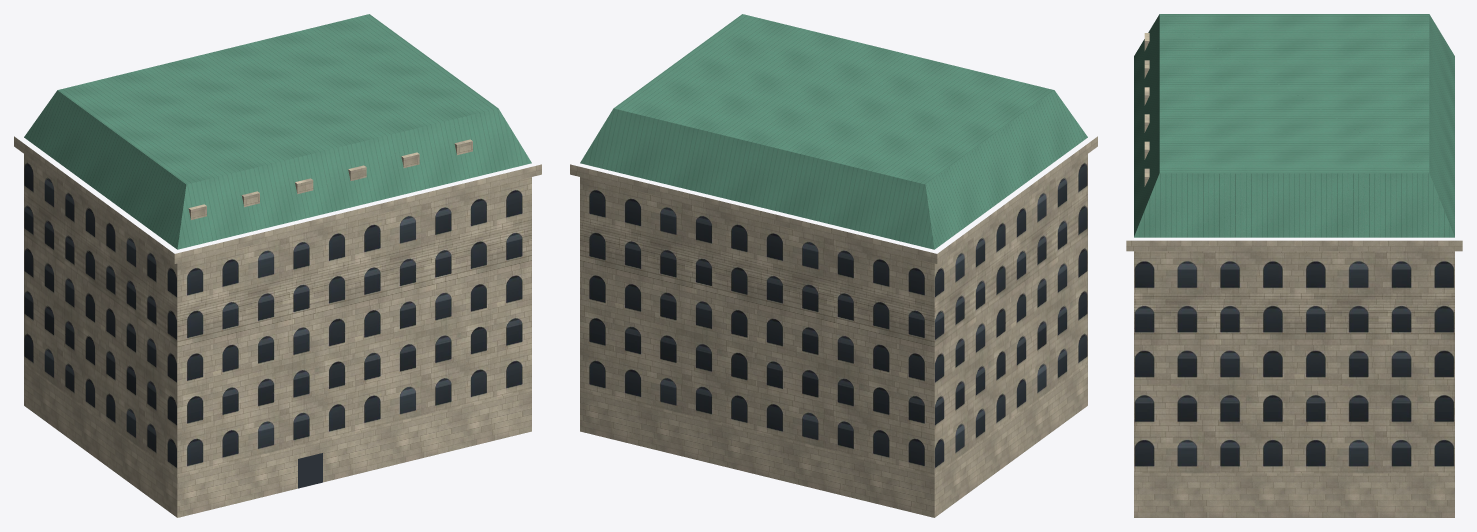
File: dc_beaux.glb
3 renders of one model, left to right at view 1: azimuth 30°, elevation 25°; view 2: azimuth 150°, elevation 25°; view 3: azimuth 270°, elevation 25°, orthographic. The views are drawn at different scales.
Parts seen in each view (by area): view 1: dc_beaux; view 2: dc_beaux; view 3: dc_beaux.
Boxes of the visible parts, <box> form: dc_beaux: <box>14,14,541,517</box>; dc_beaux: <box>570,14,1097,517</box>; dc_beaux: <box>1126,14,1462,517</box>.
Size of the model in its own units: 41.4 by 34.4 by 31.4.
Materials: 5 (5 with a texture image).
